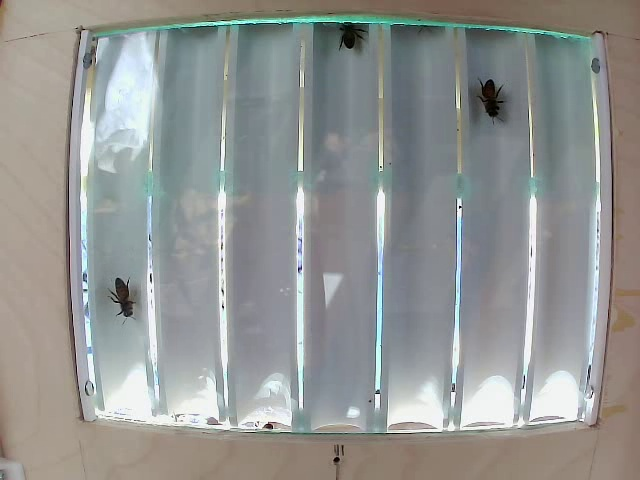bee: (97, 275, 154, 329), (467, 80, 512, 130), (334, 24, 379, 66)
